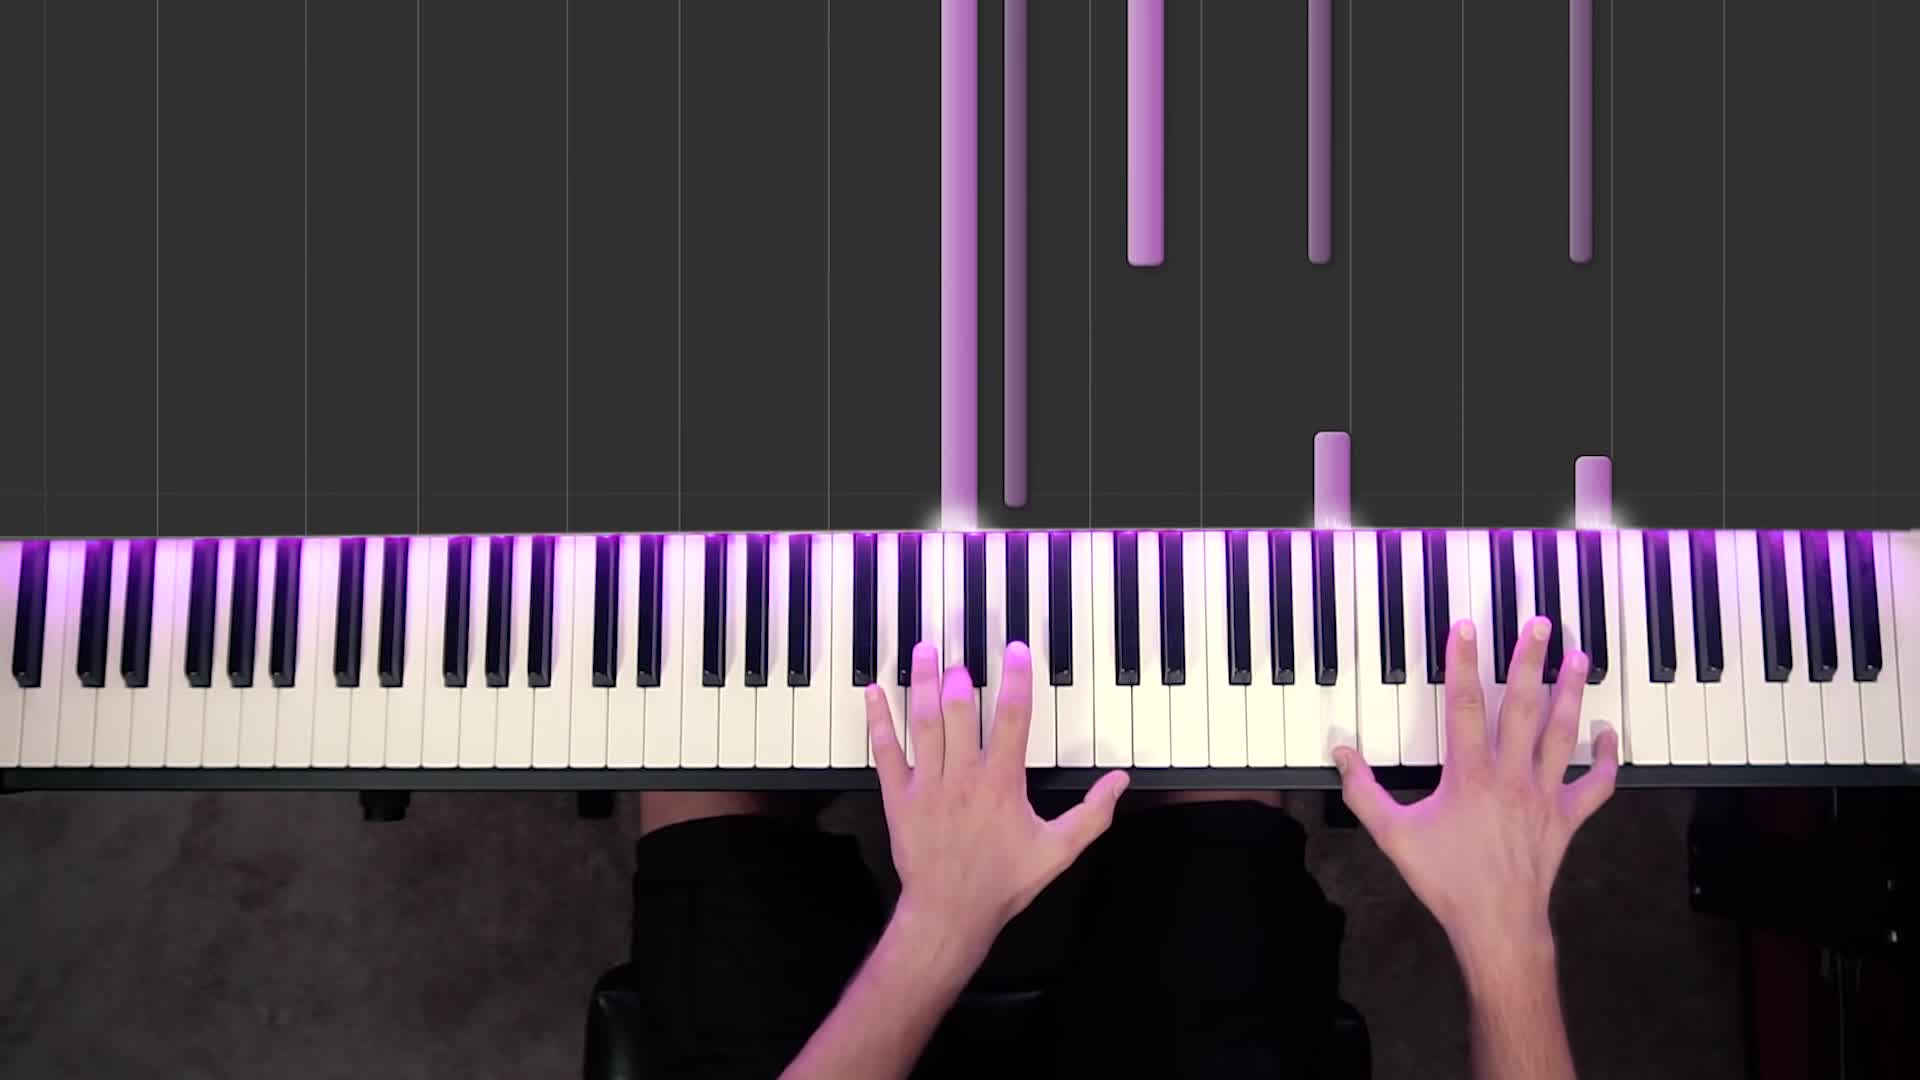left: (855, 637, 1133, 905)
right: (1329, 611, 1621, 939)
